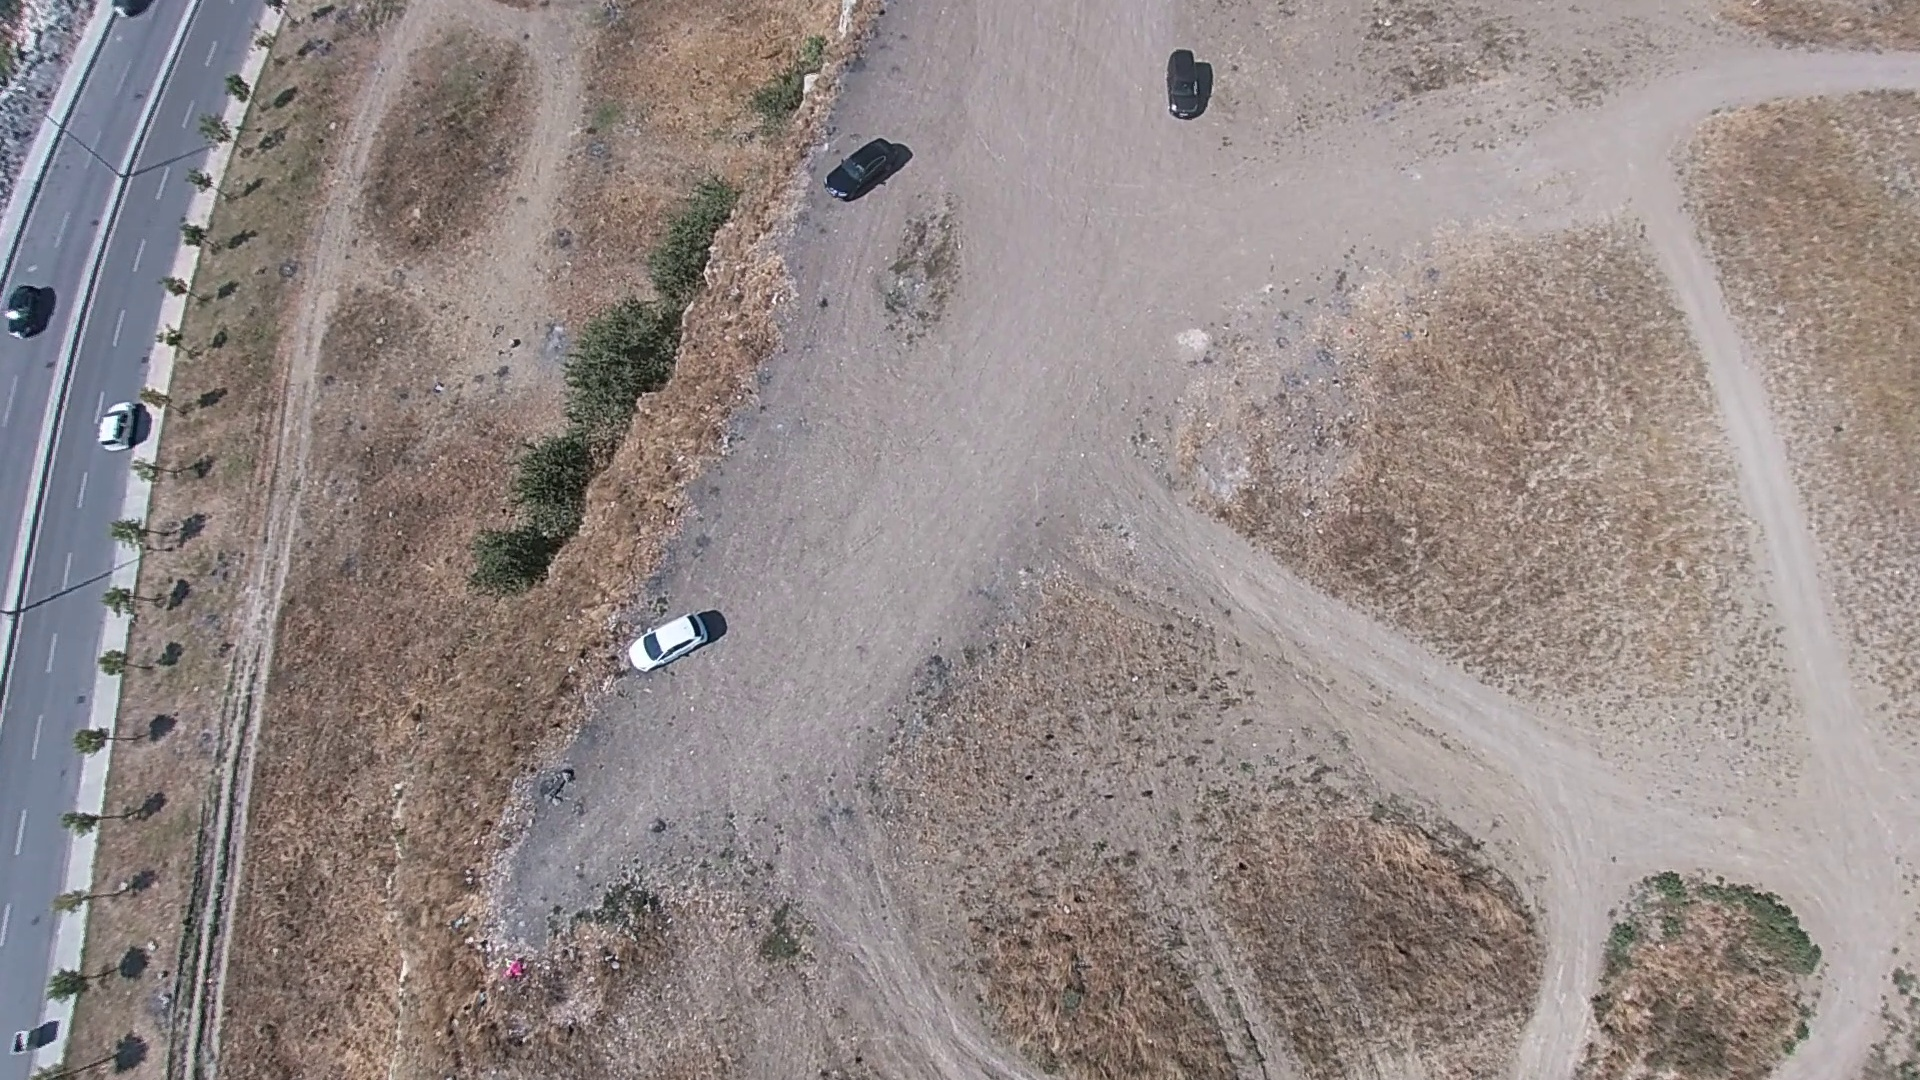arac: (620, 609, 720, 673), (822, 129, 909, 198), (1163, 47, 1211, 117), (94, 396, 145, 455), (1, 285, 46, 349)
